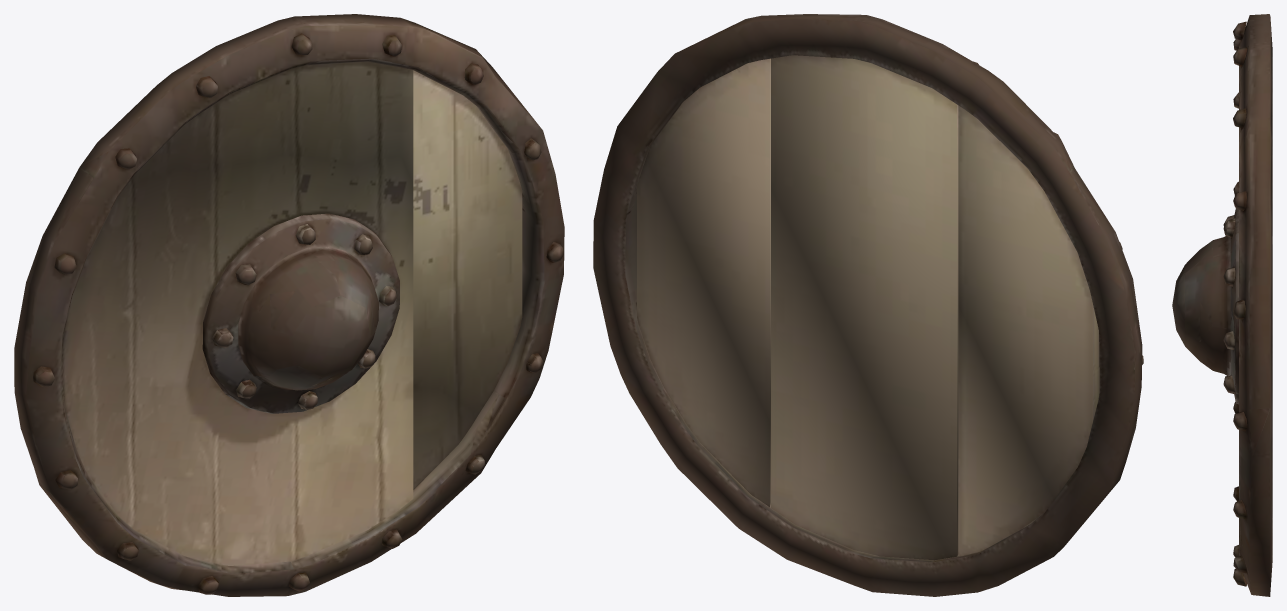
Rendered from shield_starter.glb.
3 views of the same model, side by side, from view 1: azimuth 30°, elevation 25°; view 2: azimuth 150°, elevation 25°; view 3: azimuth 270°, elevation 25° (orthographic). The views are drawn at different scales.
Visible parts, largest first — view 1: tripo_node_f7783e4c-b576-4f22-851e-c00c5b85049a; view 2: tripo_node_f7783e4c-b576-4f22-851e-c00c5b85049a; view 3: tripo_node_f7783e4c-b576-4f22-851e-c00c5b85049a.
Part boxes in pixels (x1,y1,x2,y2): tripo_node_f7783e4c-b576-4f22-851e-c00c5b85049a: [14, 14, 564, 596]; tripo_node_f7783e4c-b576-4f22-851e-c00c5b85049a: [593, 14, 1143, 596]; tripo_node_f7783e4c-b576-4f22-851e-c00c5b85049a: [1172, 14, 1272, 596].
Bounding box in the file's own units: 1 × 1 × 0.1725.
1 material, 1 textured.
